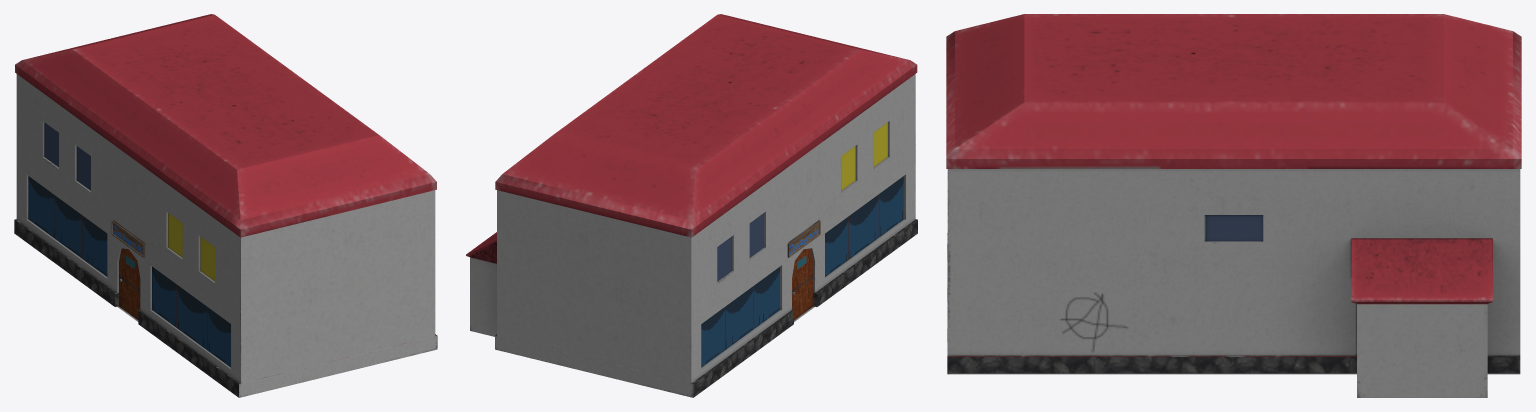
Rendered from House4.glb.
The picture shows the model from 3 angles, left to right: view 1: azimuth 30°, elevation 25°; view 2: azimuth 150°, elevation 25°; view 3: azimuth 270°, elevation 25°; orthographic projection. The views are drawn at different scales.
Parts seen in each view (by area): view 1: Box001; view 2: Box001; view 3: Box001.
Part boxes in pixels (x1,y1,x2,y2): Box001: [14, 14, 437, 397]; Box001: [466, 14, 917, 397]; Box001: [946, 14, 1521, 397].
Bounding box in the file's own units: 2.18 × 1.74 × 3.57.
1 material, 1 textured.
